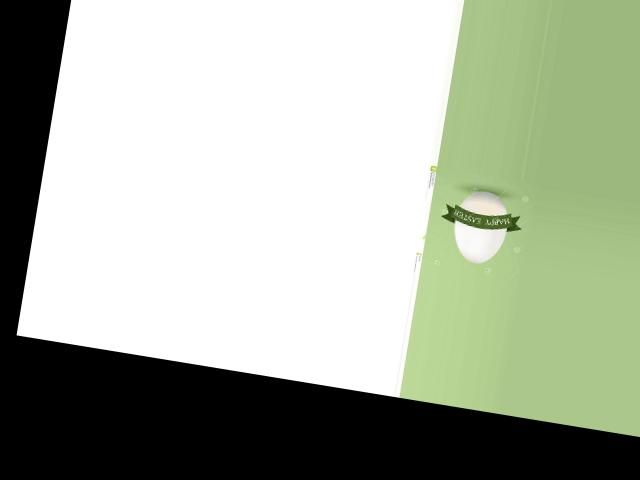egg: (448, 187, 511, 266)
